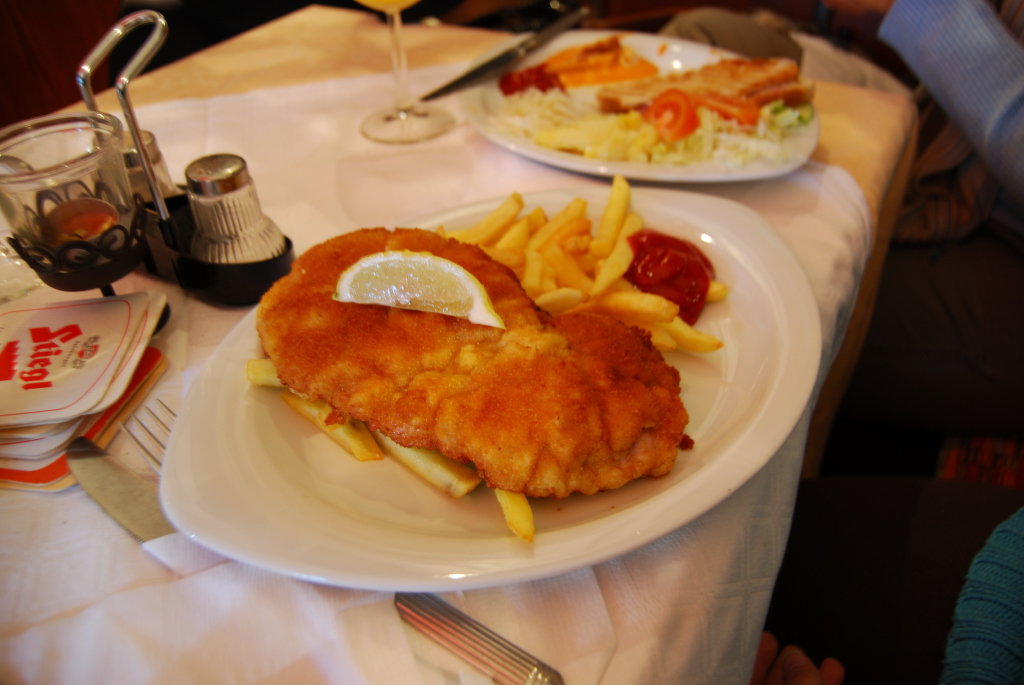French fries: (248, 354, 533, 544), (437, 177, 727, 358), (529, 79, 654, 160)
